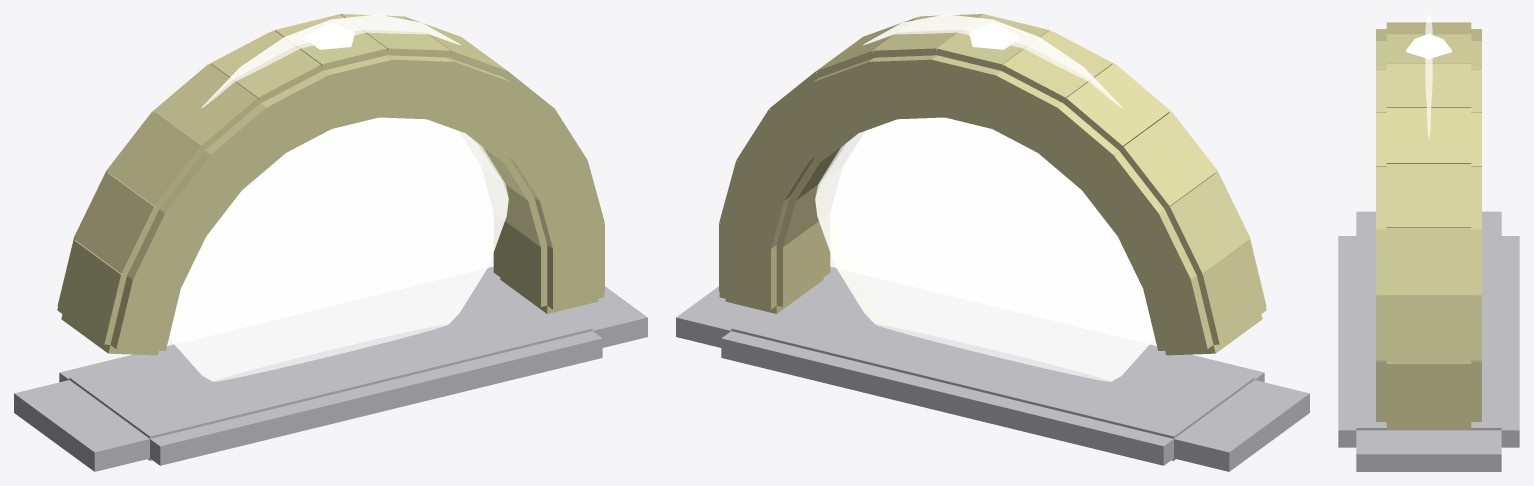
Rendered from build_portal_storm.glb.
3 views of the same model, side by side, from view 1: azimuth 30°, elevation 25°; view 2: azimuth 150°, elevation 25°; view 3: azimuth 270°, elevation 25° (orthographic). The views are drawn at different scales.
Visible parts, largest first — view 1: box; view 2: box; view 3: box.
Boxes of the visible parts, <box> form: box: <box>14,14,647,471</box>; box: <box>676,14,1309,471</box>; box: <box>1338,14,1519,471</box>.
Size of the model in its own units: 3.8 by 2.5 by 1.2.
